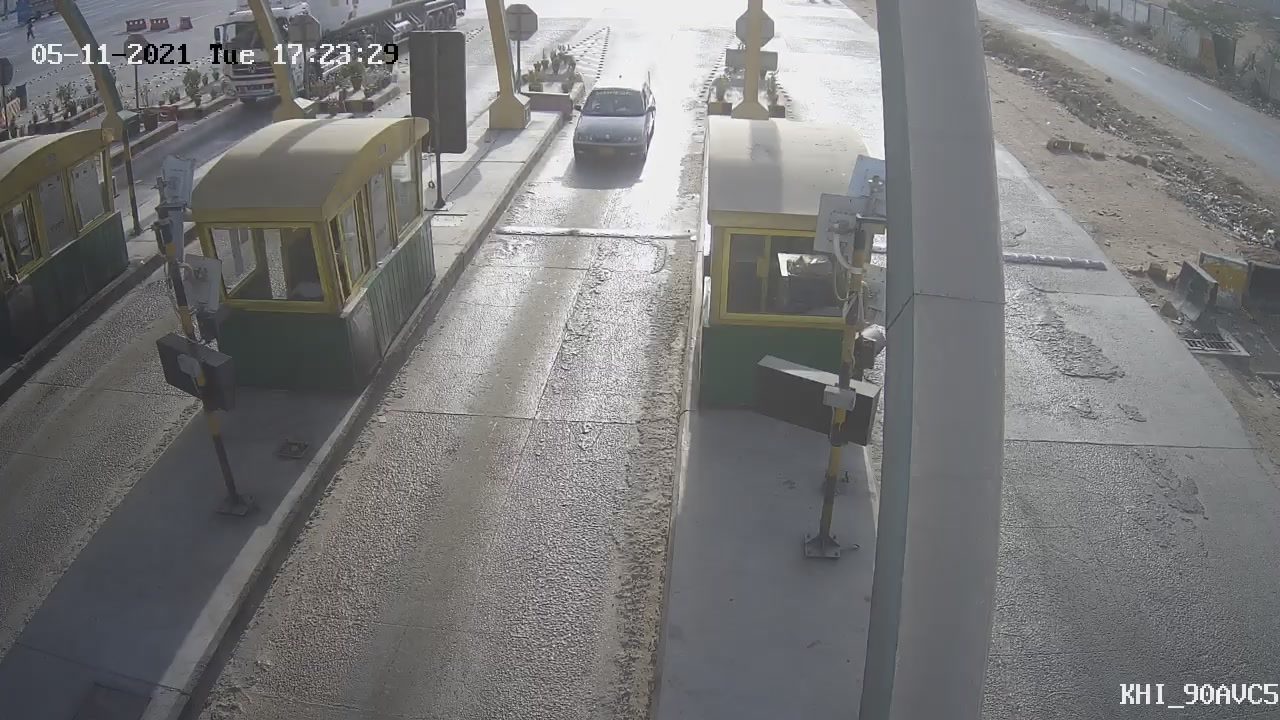F1: (550, 59, 666, 191)
